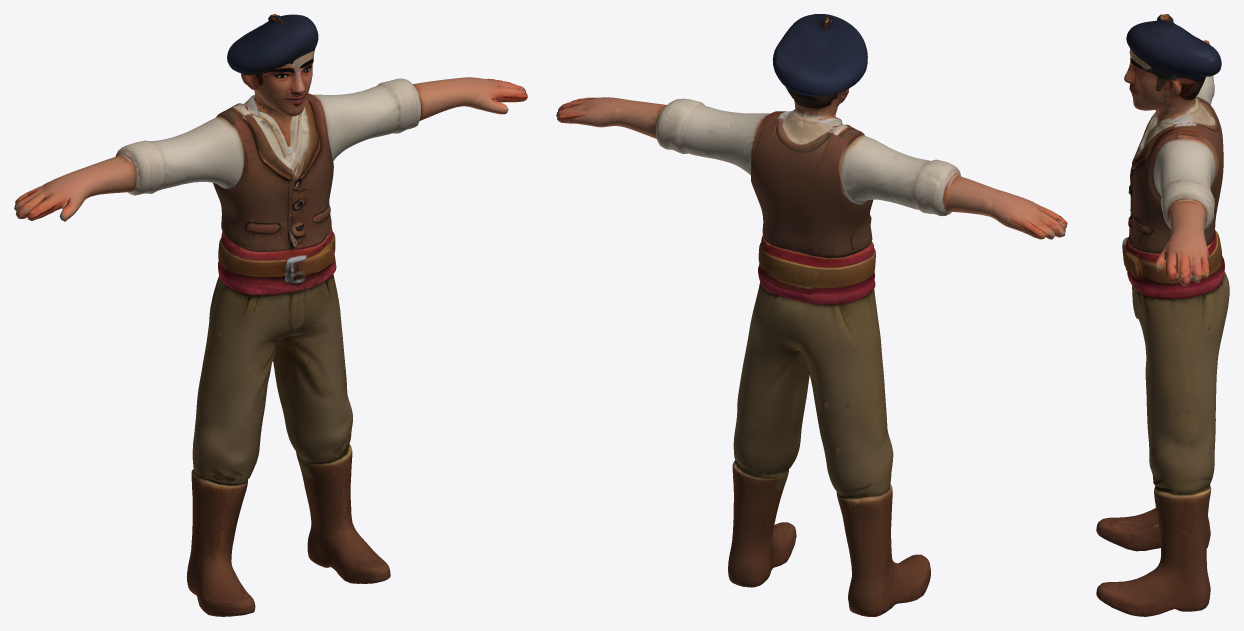
File: gaucho_2.glb
3 renders of one model, left to right at view 1: azimuth 30°, elevation 25°; view 2: azimuth 150°, elevation 25°; view 3: azimuth 270°, elevation 25°, orthographic. The views are drawn at different scales.
Parts seen in each view (by area): view 1: gaucho_2; view 2: gaucho_2; view 3: gaucho_2.
Boxes of the visible parts, bbox=[...] form: gaucho_2: bbox=[14, 14, 527, 616]; gaucho_2: bbox=[556, 14, 1067, 616]; gaucho_2: bbox=[1096, 14, 1229, 616].
Size of the model in its own units: 1.64 by 1.76 by 0.3805.
Materials: 1 (1 with a texture image).
